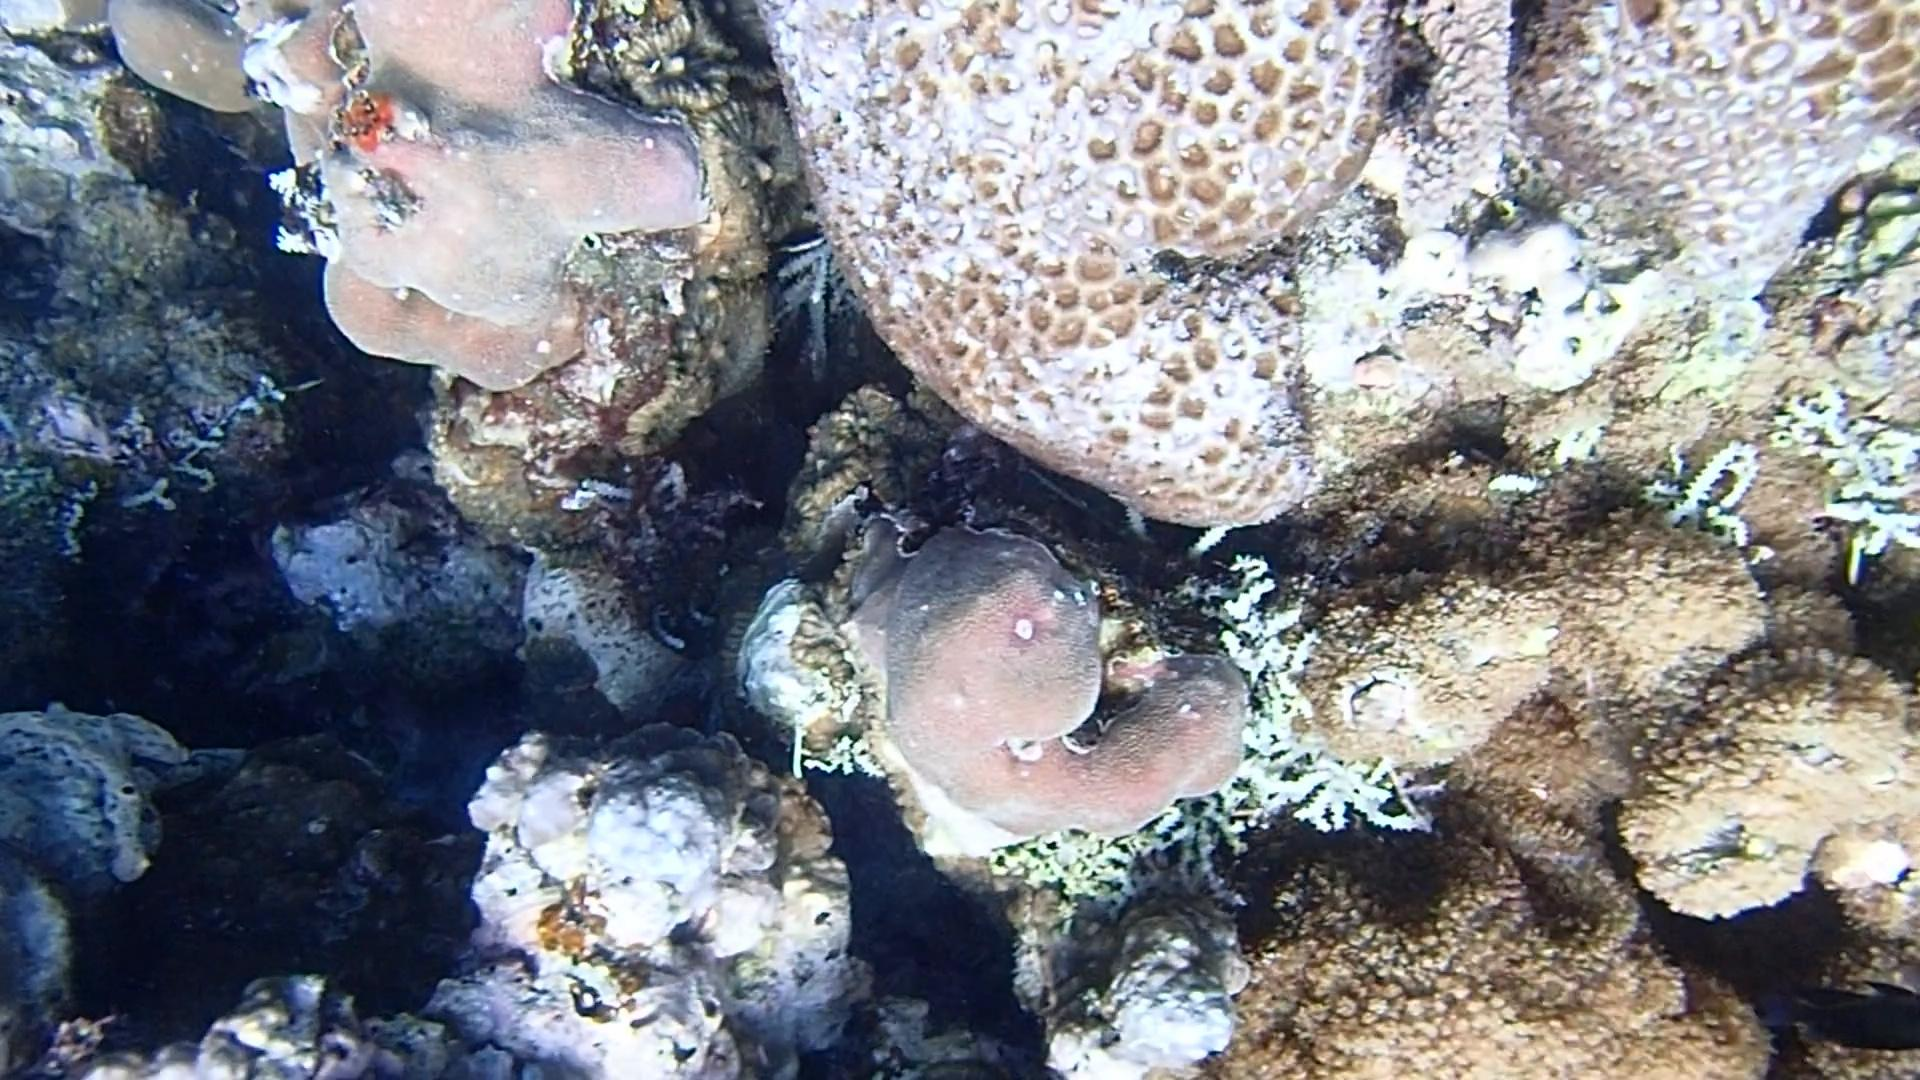Dark Fish: (1749, 964, 1920, 1064)
